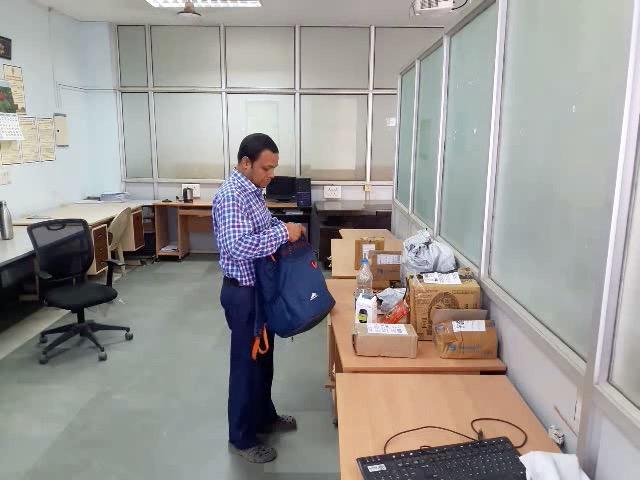shoplifting: (176, 186, 406, 329)
